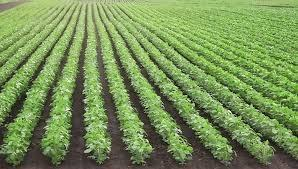field: (0, 0, 297, 166)
